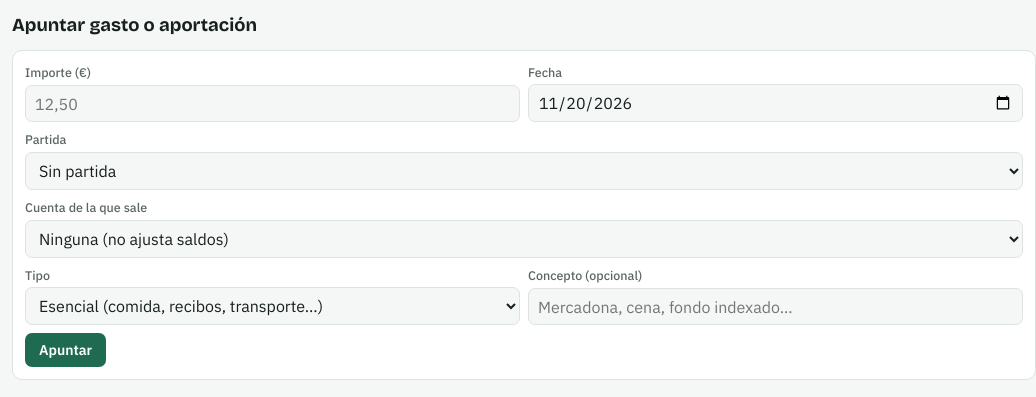
ApuntarGasto › da de alta un gasto con importe en formato español
Type "1.234,56" into the field labelled "Importe (€)". click: (272, 104)
box: [25,85,520,122]
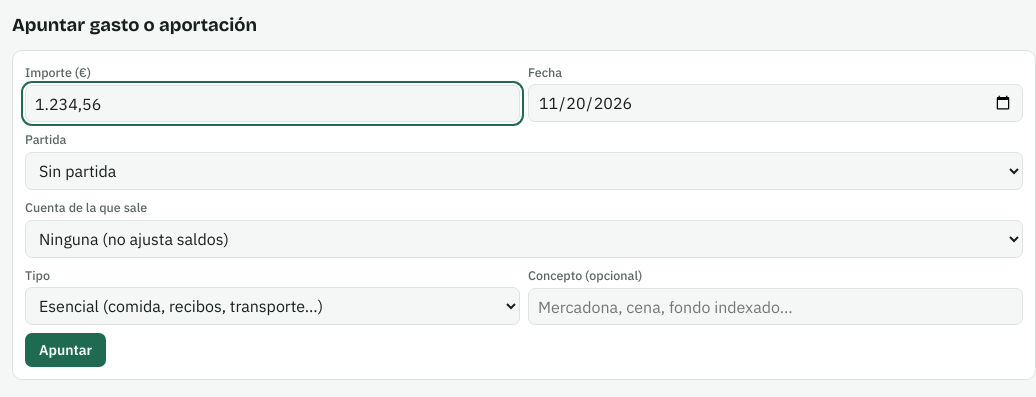
Type "  Mercadona " into the field labelled "Concepto (opcional)". click: (776, 307)
box: [528,288,1023,326]
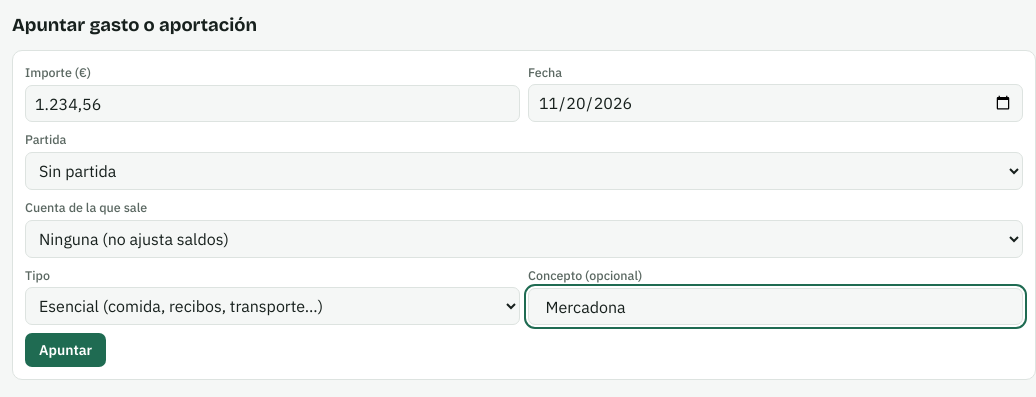
Select "Nómina" in the dropdown labelled "Cuenta de la que sale". click: (524, 239)
box: [25,220,1023,258]
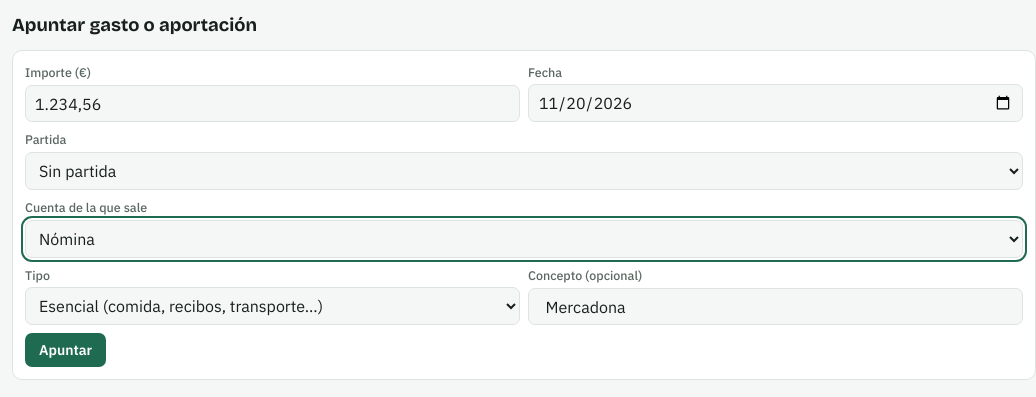
Click the button "Apuntar". click: (66, 350)
box: [25,334,106,368]
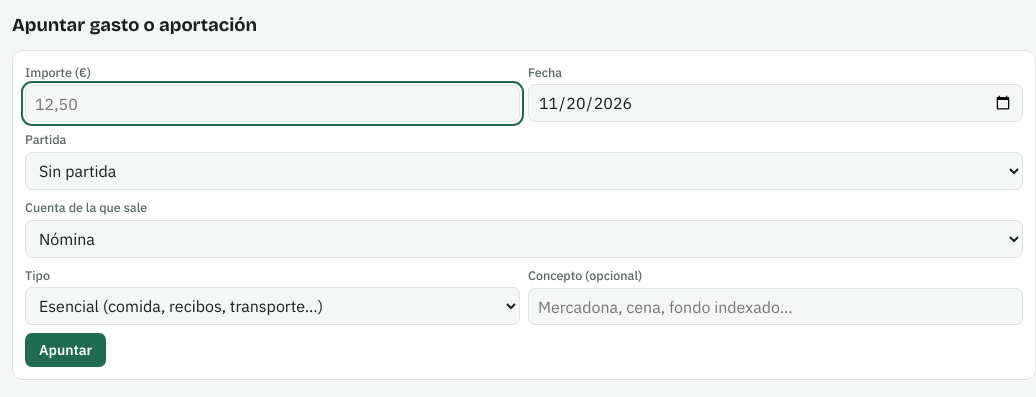
Expected: the field labelled "Importe (€)" is empty, [25,85,520,122]
